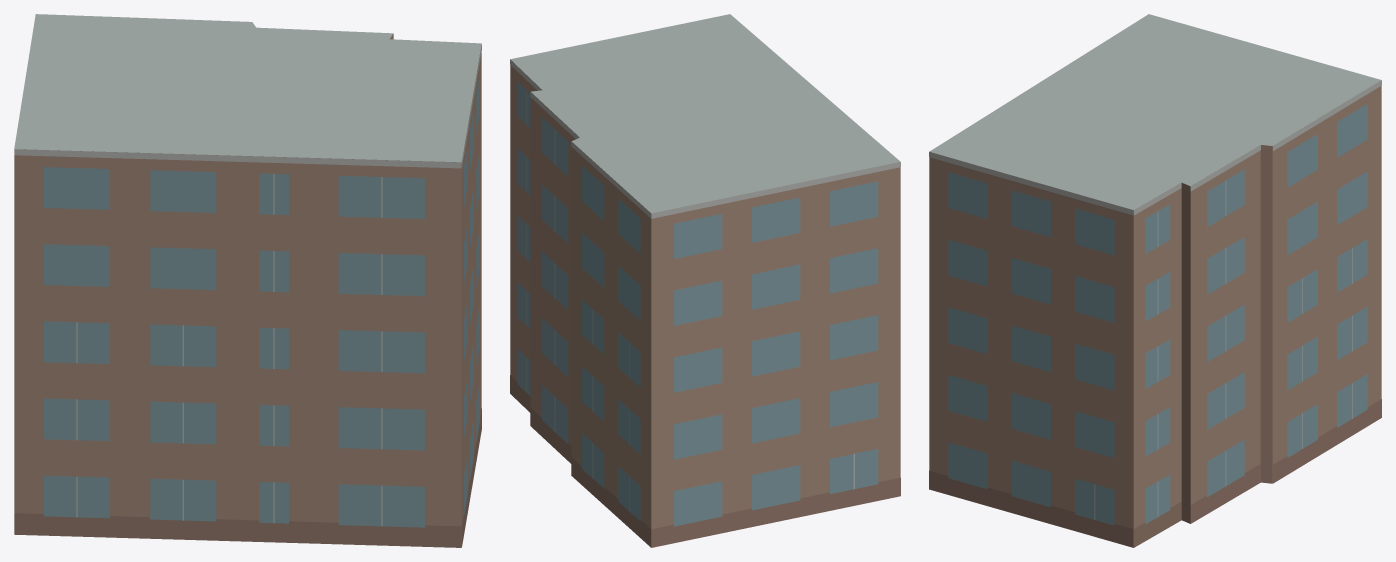
Rendered from survey-upis-32616382.glb.
3 renders of one model, left to right at view 1: azimuth 30°, elevation 25°; view 2: azimuth 150°, elevation 25°; view 3: azimuth 270°, elevation 25°, orthographic. The views are drawn at different scales.
Visible parts, largest first — view 1: survey-upis-32616382.tmp; view 2: survey-upis-32616382.tmp; view 3: survey-upis-32616382.tmp.
Part boxes in pixels (box(x1,y1,x2,y2)): survey-upis-32616382.tmp: box(14, 14, 481, 547); survey-upis-32616382.tmp: box(510, 14, 900, 547); survey-upis-32616382.tmp: box(929, 14, 1381, 547).
Size of the model in its own units: 19.01 by 15.25 by 18.53.
